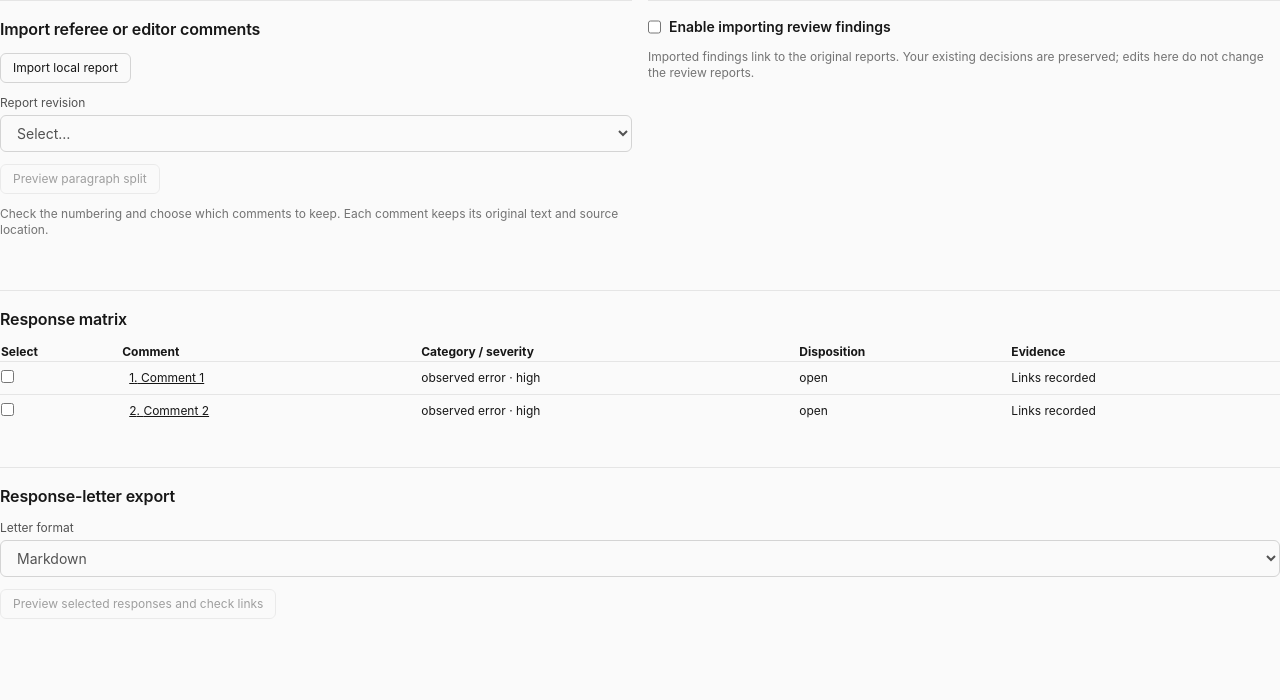
Test case: moves between comments without asking when nothing has changed or it was saved
Click the button "1. Comment 1".
click(167, 378)  # box [129,370,204,386]
(page scrolled)
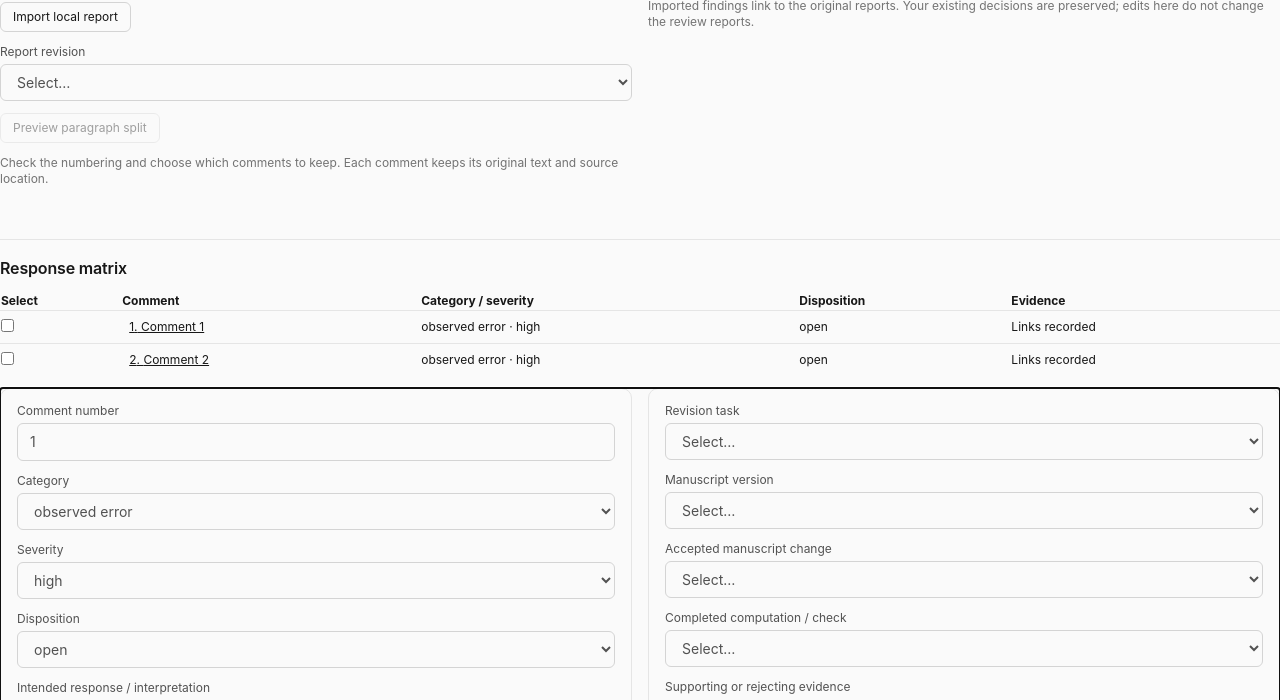
Click the button "2. Comment 2".
click(169, 360)  # box [129,352,209,368]
(page scrolled)
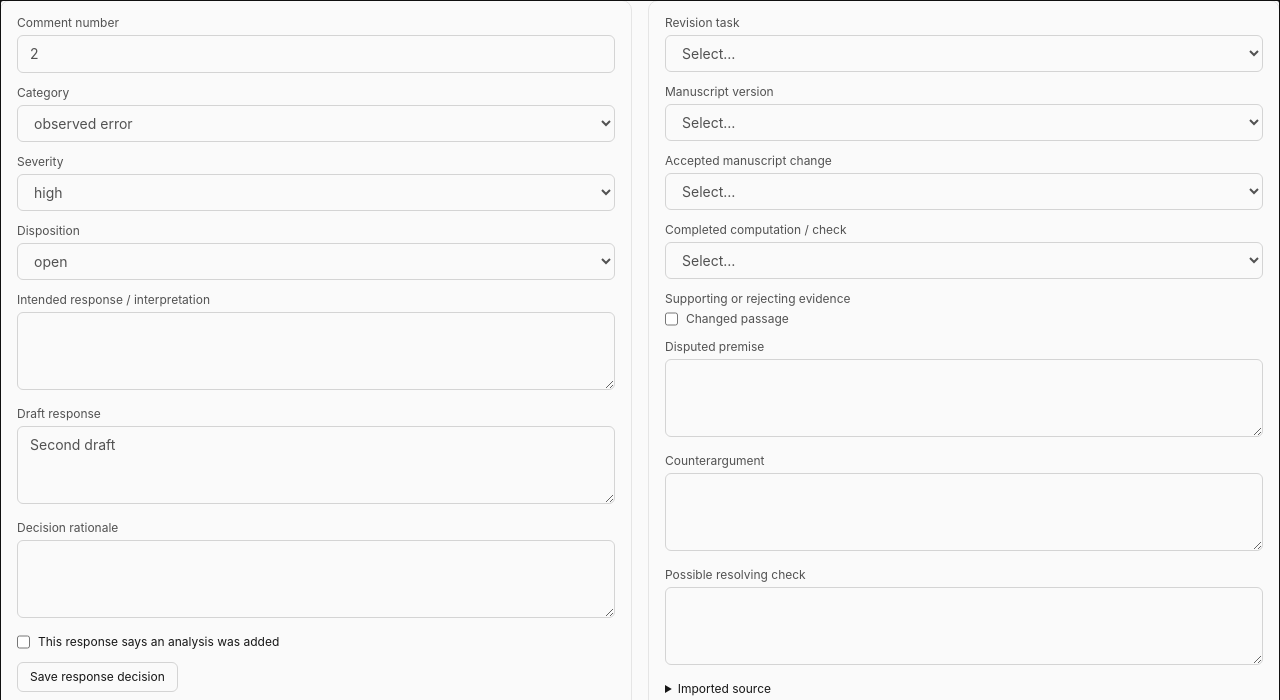
Check: the text box labelled "Draft response" holds "Second draft"
Replace the text in the text box labelled "Draft response" with "Saved reply" at (316, 465), box [17,426,615,504]
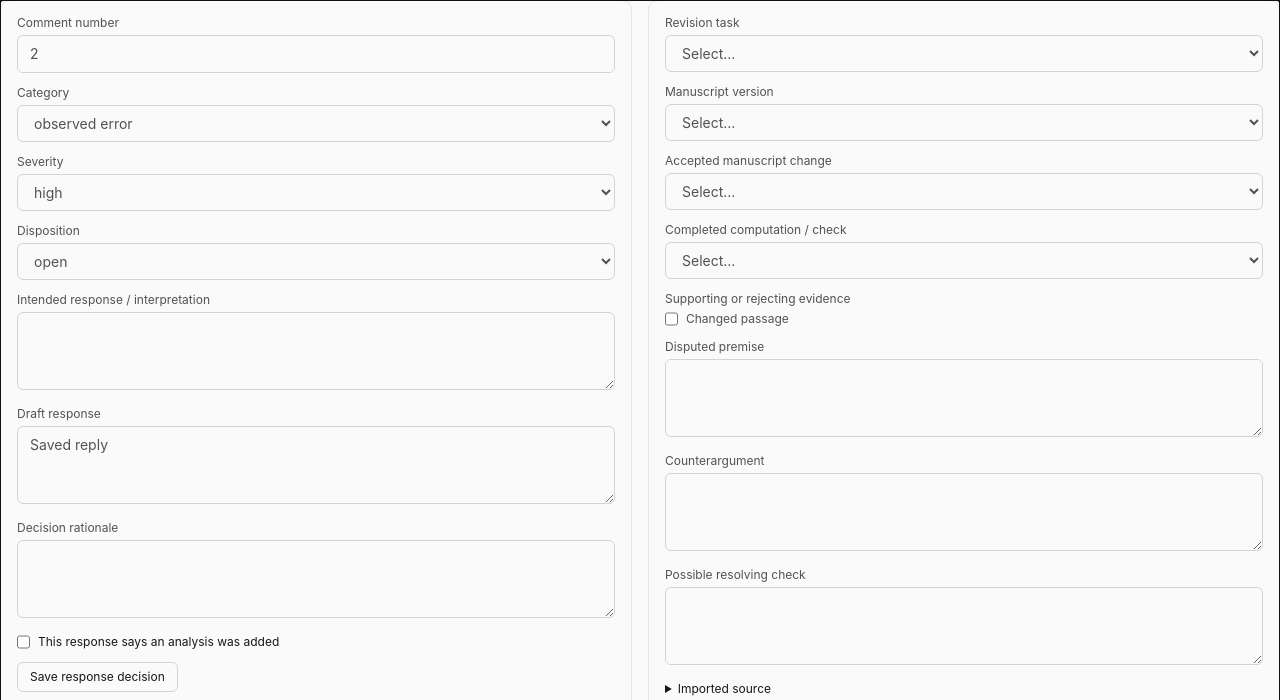
Click the button "Save response decision".
click(97, 677)  # box [17,662,178,692]
(page scrolled)
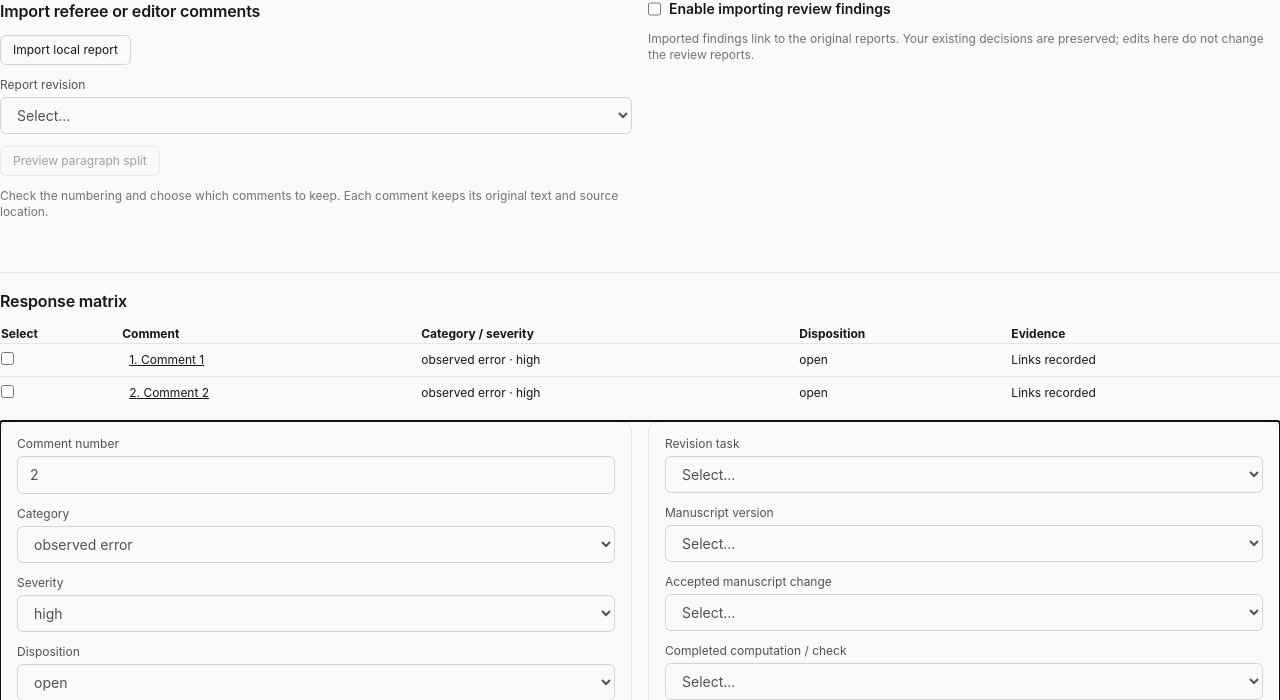
Click the button "1. Comment 1".
click(167, 360)  # box [129,352,204,368]
(page scrolled)
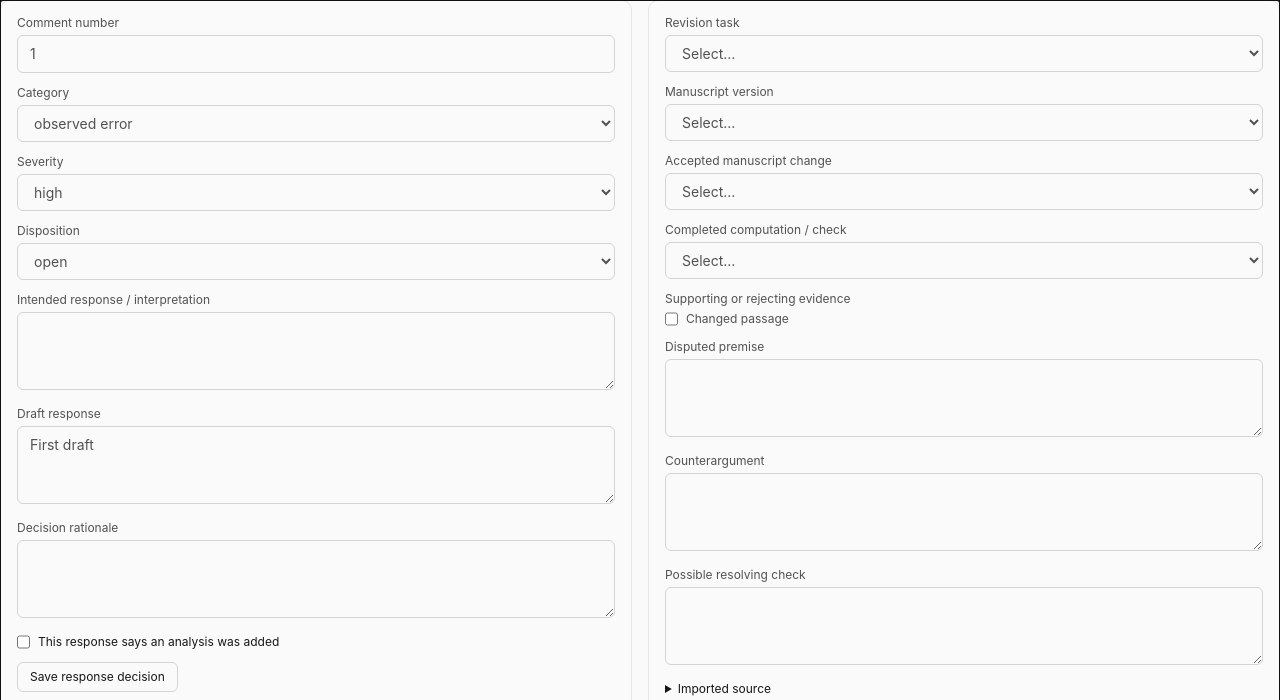
Check: the text box labelled "Draft response" holds "First draft", box [17,426,615,504]
